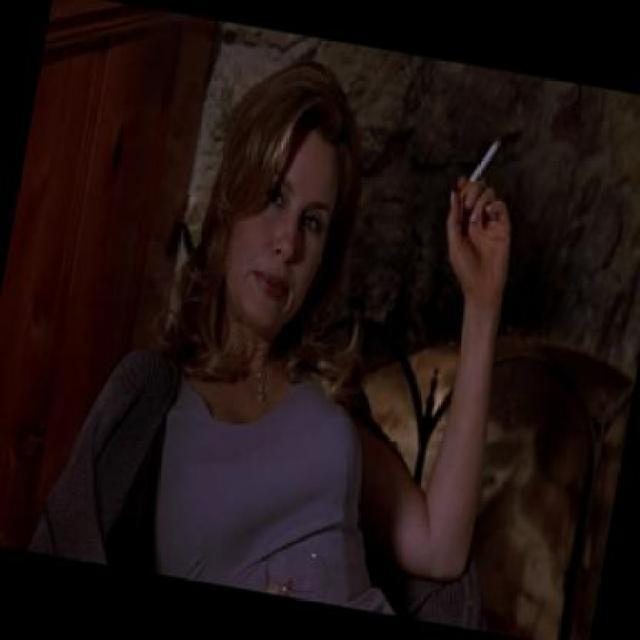smoke: (456, 133, 502, 207)
